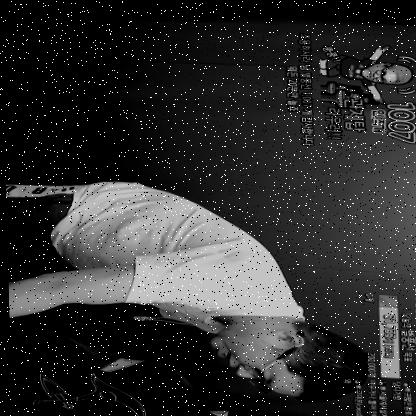donation: (283, 26, 416, 148)
streamer: (4, 172, 367, 400)
